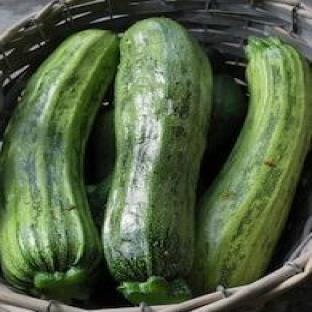Zucchini: (0, 30, 118, 301), (103, 18, 211, 303), (192, 39, 311, 292), (197, 74, 247, 196), (87, 107, 115, 184)
